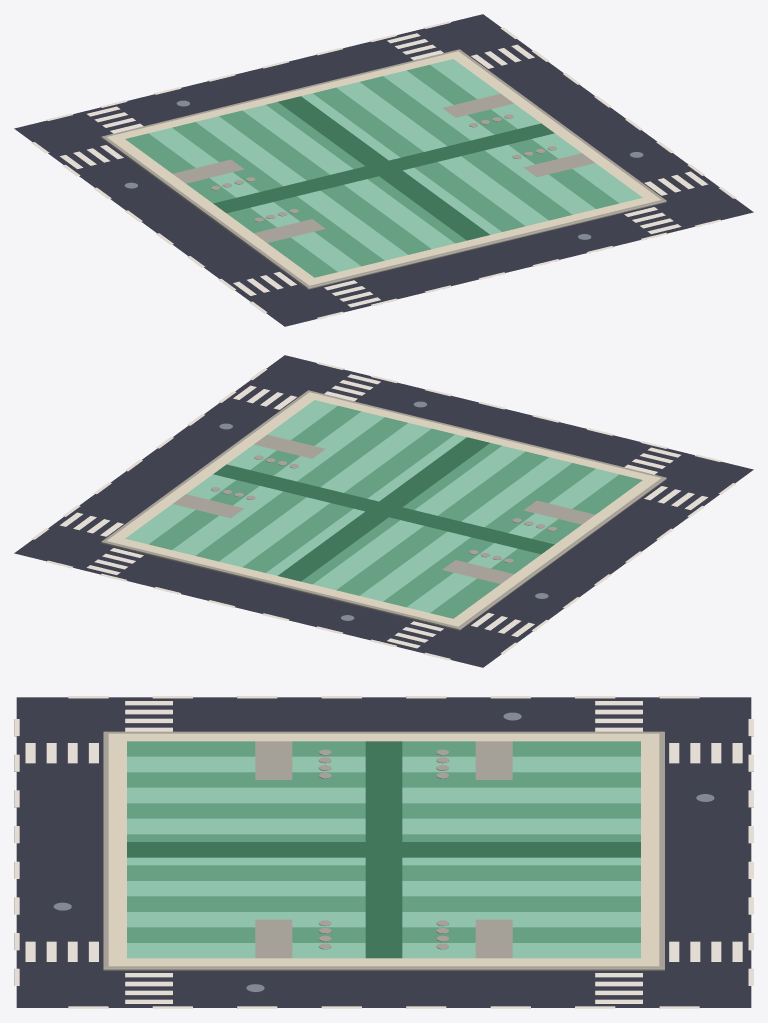
File: tile_residential.glb
3 renders of one model, top to bottom at view 1: azimuth 30°, elevation 25°; view 2: azimuth 150°, elevation 25°; view 3: azimuth 270°, elevation 25°, orthographic. The views are drawn at different scales.
Visible parts, largest first — view 1: tile_residential; view 2: tile_residential; view 3: tile_residential.
Part boxes in pixels (x1,y1,x2,y2): tile_residential: (14, 14, 753, 326); tile_residential: (14, 355, 753, 667); tile_residential: (14, 696, 753, 1008).
Size of the model in its own units: 40.3 by 0.21 by 40.3.
Materials: 1 (1 with a texture image).
